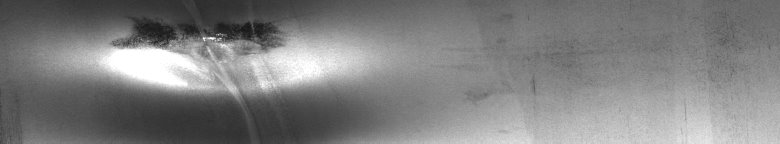ke: (107, 13, 322, 136)
